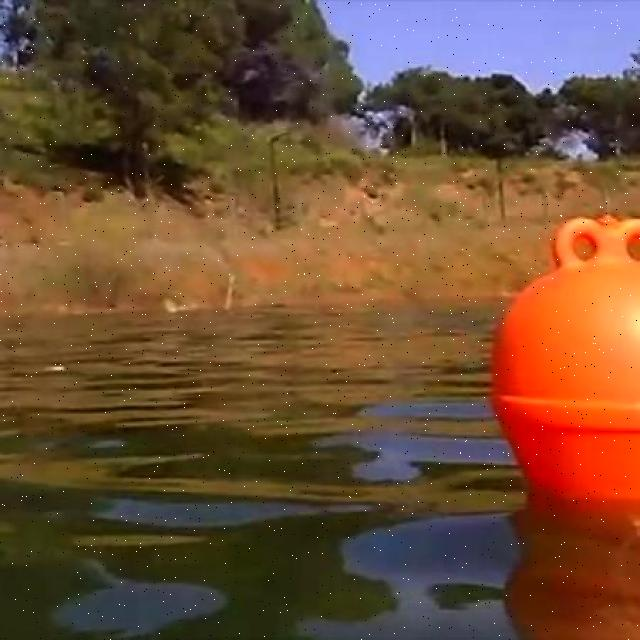buoy: (493, 215, 640, 495)
